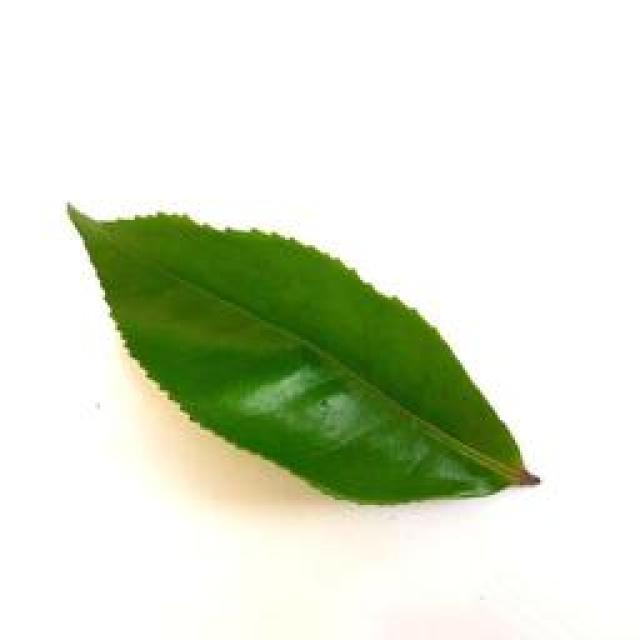Healthy: (58, 193, 542, 506)
